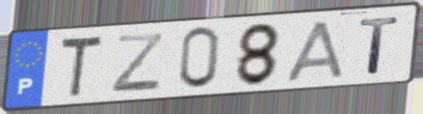0: (176, 25, 222, 93)
8: (233, 21, 283, 88)
A: (283, 18, 347, 83)
T: (56, 33, 105, 100), (357, 14, 403, 77)
Z: (108, 30, 167, 95)
